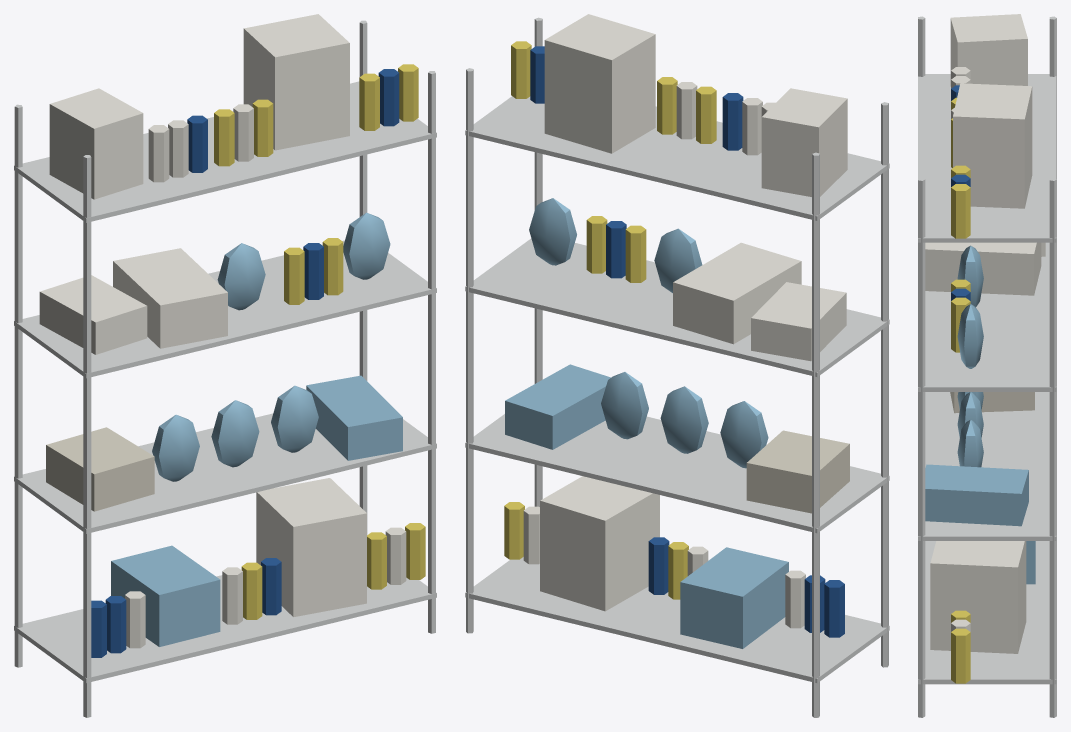
The model's file is supply_rack.glb.
3 views of the same model, side by side, from view 1: azimuth 30°, elevation 25°; view 2: azimuth 150°, elevation 25°; view 3: azimuth 270°, elevation 25° (orthographic). The views are drawn at different scales.
Parts seen in each view (by area): view 1: SupplyRack; view 2: SupplyRack; view 3: SupplyRack.
Part boxes in pixels (x1,y1,x2,y2): SupplyRack: (14, 14, 436, 717); SupplyRack: (465, 14, 889, 717); SupplyRack: (918, 14, 1056, 717).
Size of the model in its own units: 1.21 by 1.91 by 0.422.
